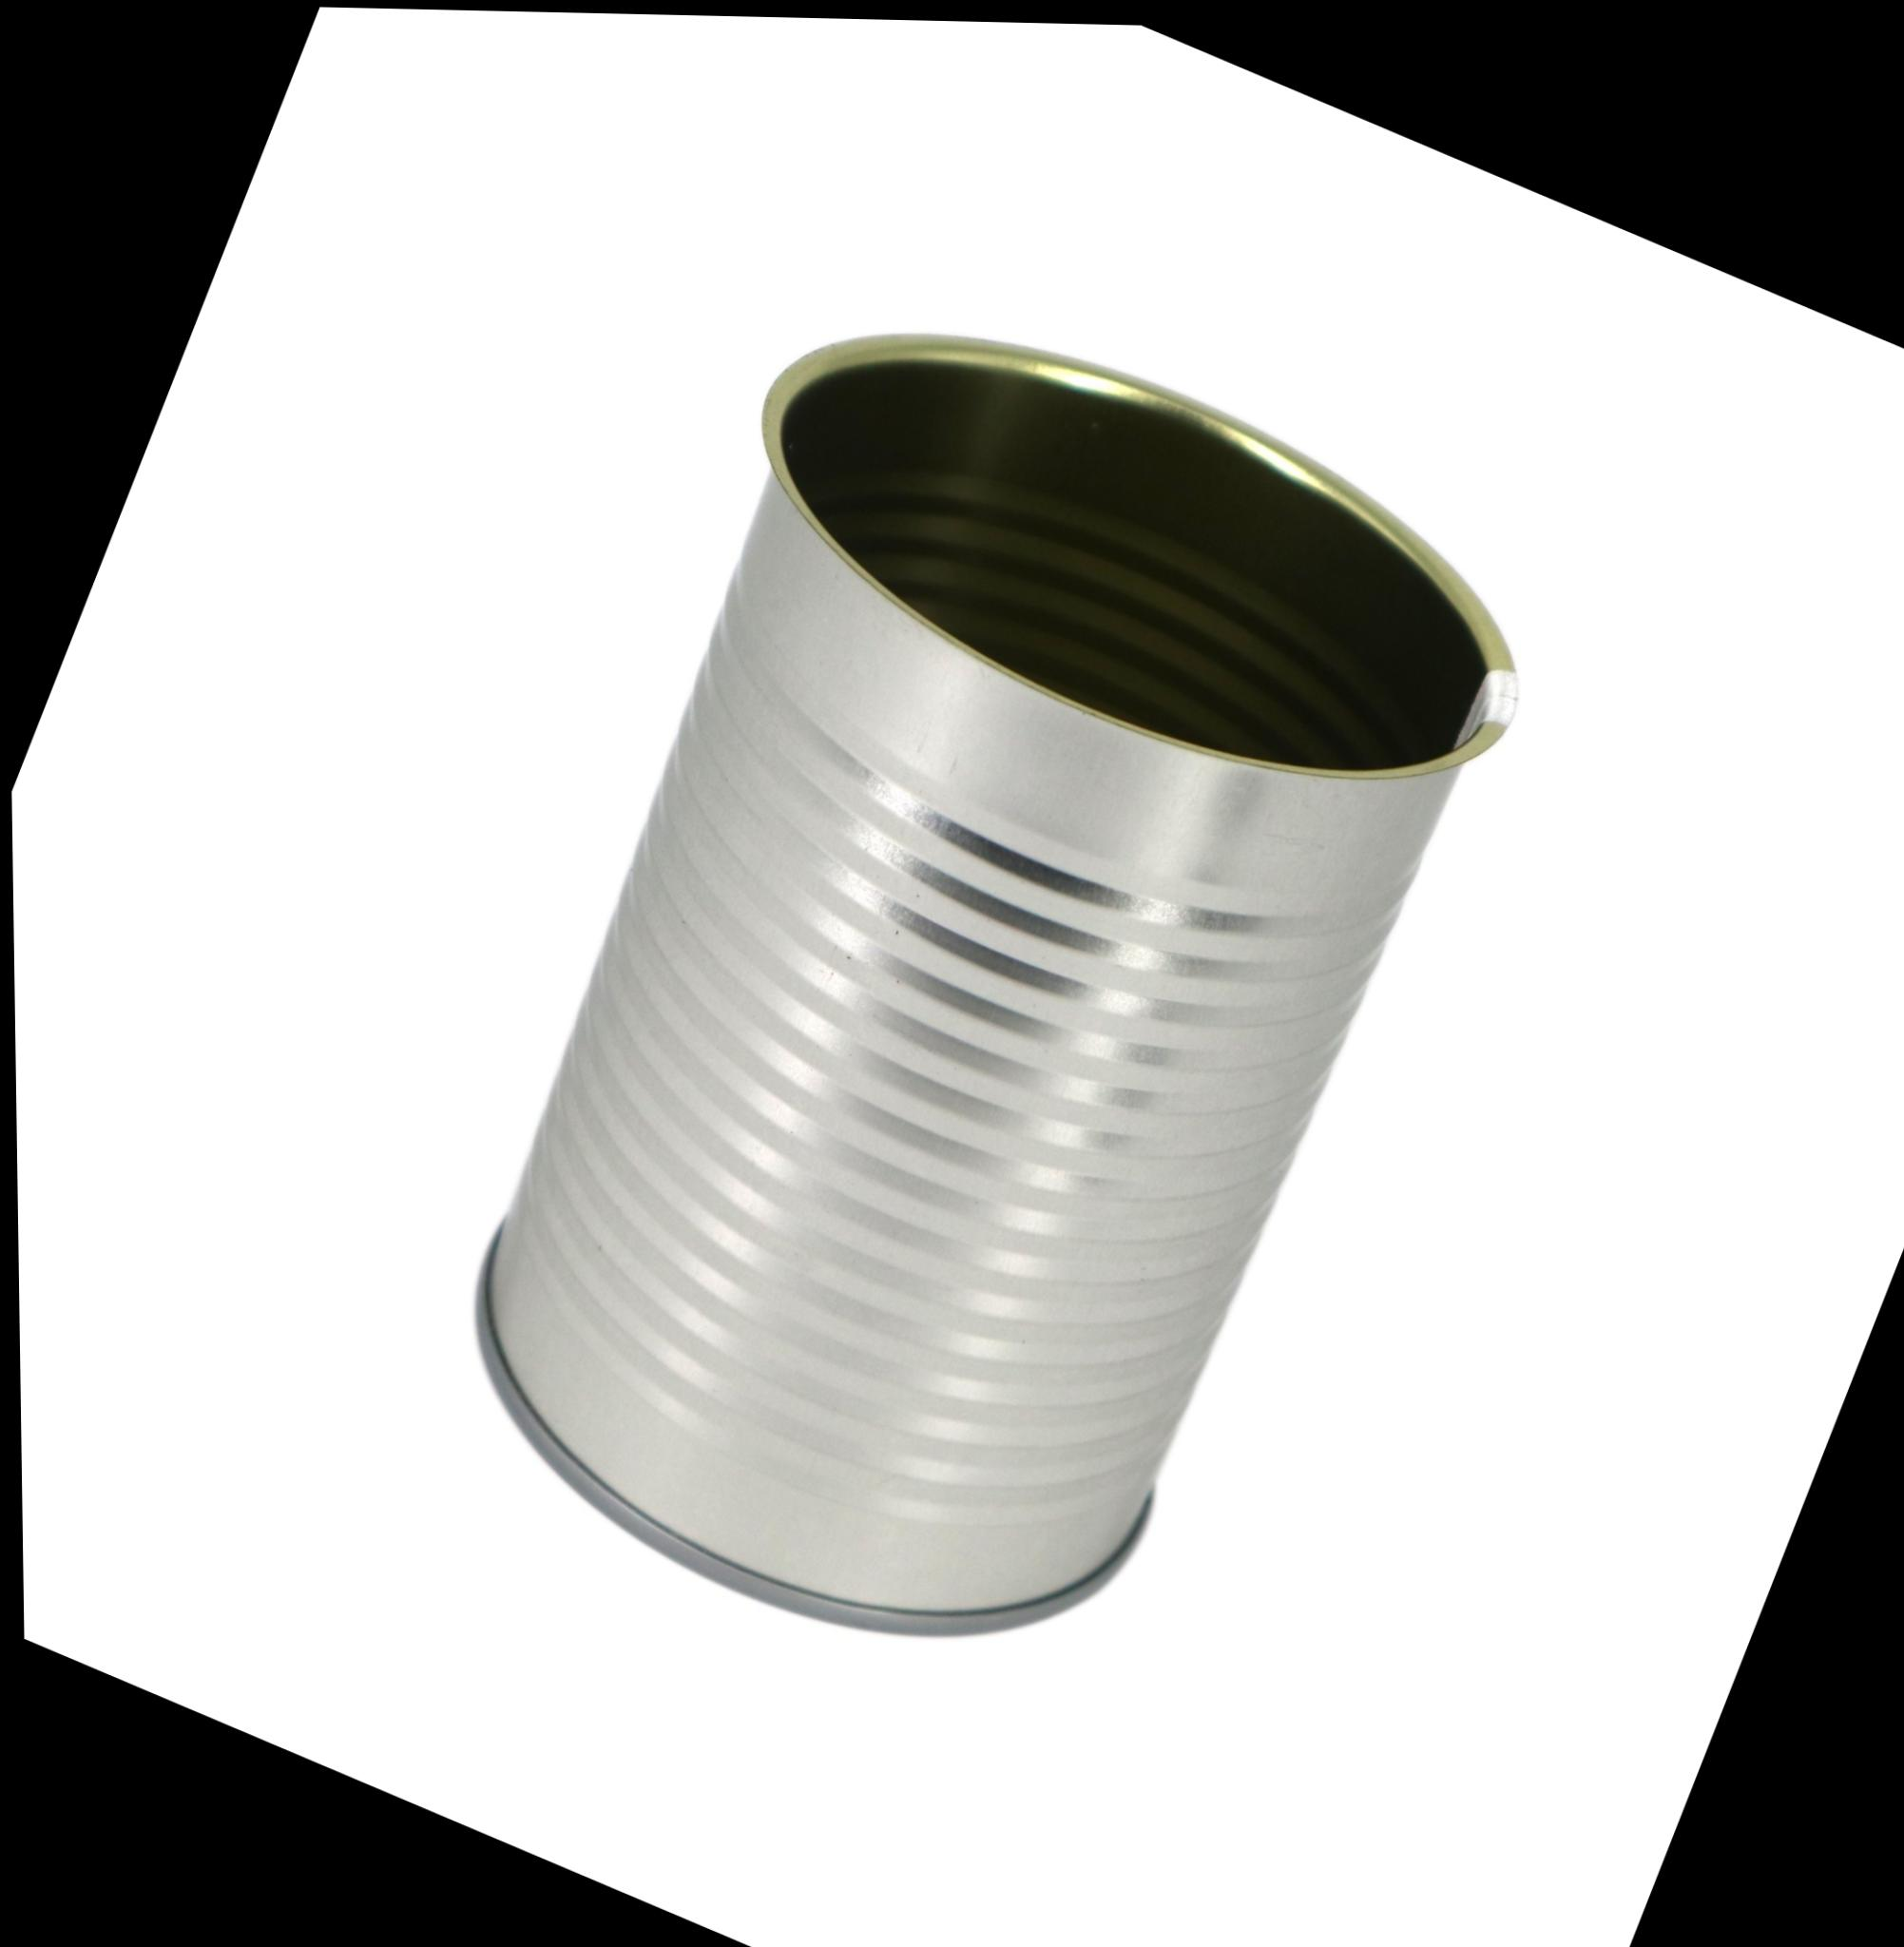metal: (420, 336, 1520, 1663)
